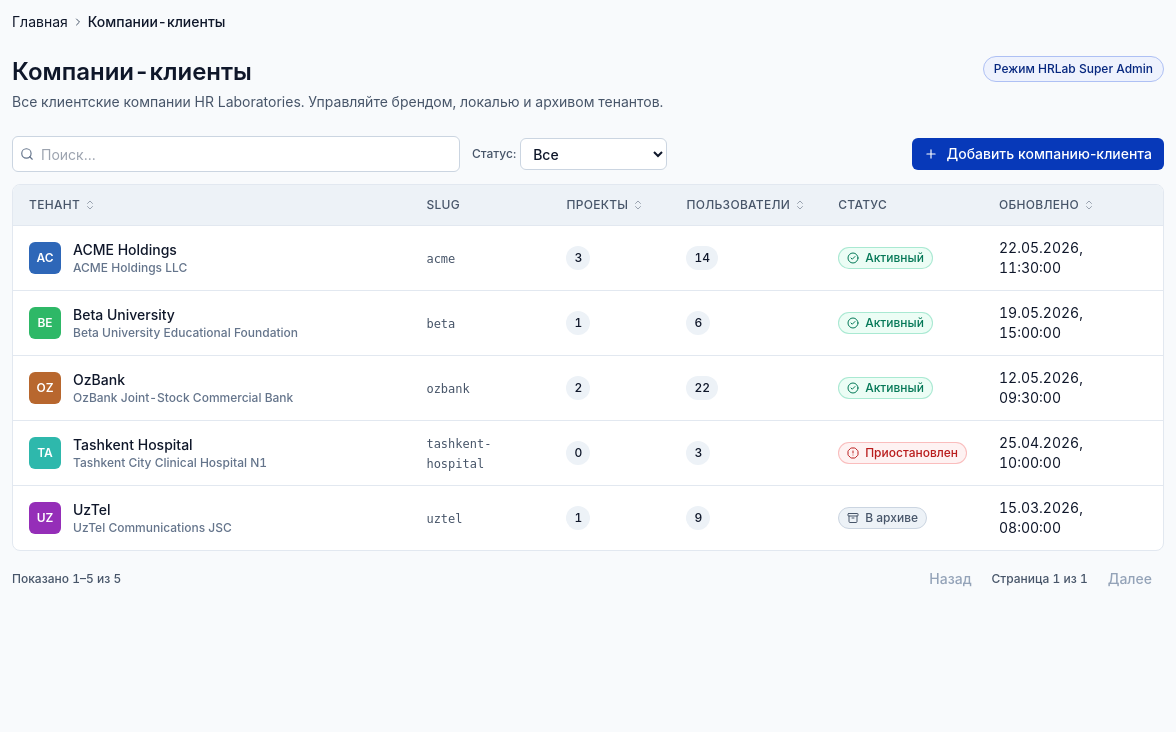
Test: <ClientsListPage /> › filters by status (ARCHIVED hides ACTIVE tenants)
The image size is (1176, 732).
Check: the text "ACME Holdings" is shown, box [73,240,187,260]
# First combobox is the status filter (only filter rendered for tenants).
Select "В архиве" in the dropdown: [594, 154] box [520,138,667,170]
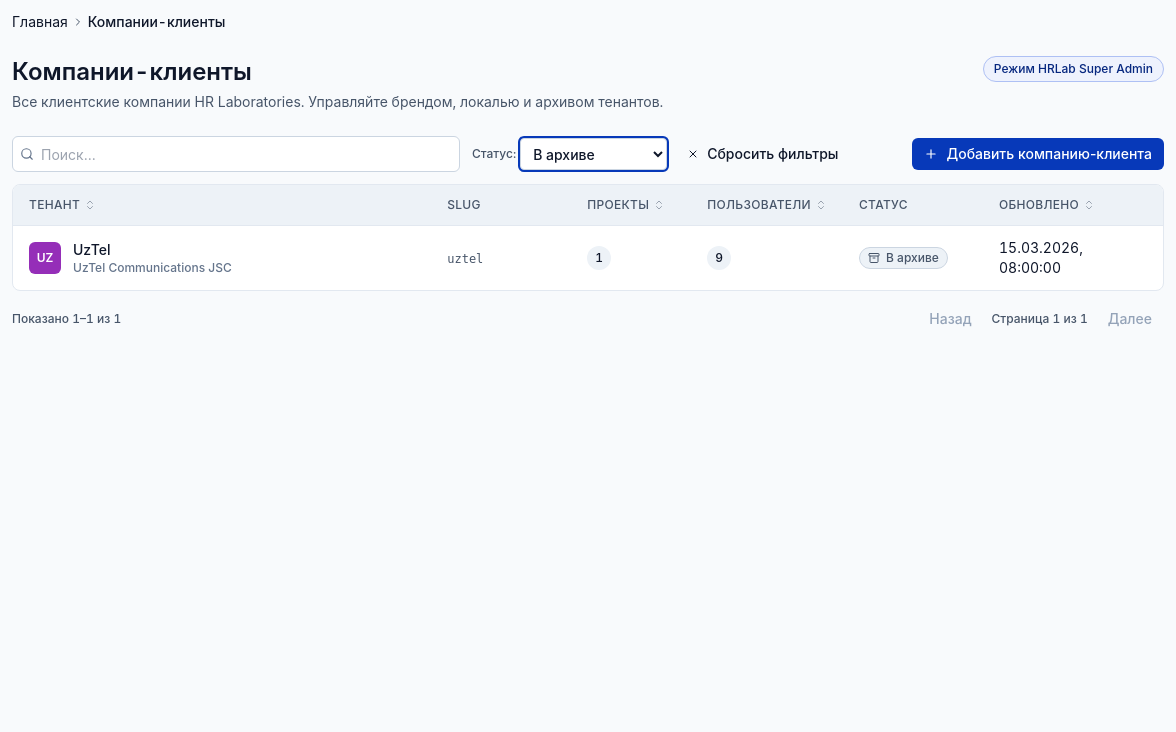
Check: the text "UzTel" is shown, box [73,241,110,258]
Check: the text "ACME Holdings" is gone
